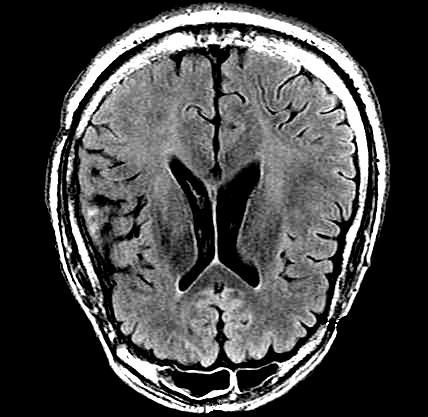Normal_Brain: (5, 1, 423, 417)
